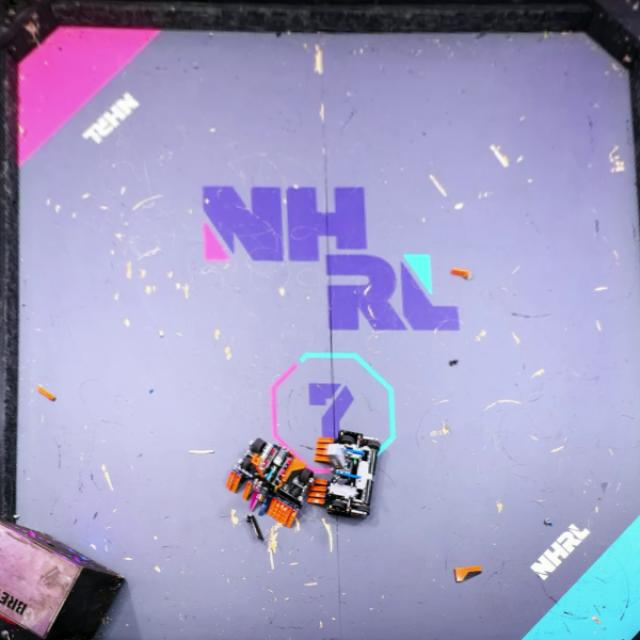housebot: (0, 520, 125, 640)
robot: (225, 436, 314, 526), (307, 430, 381, 517)
